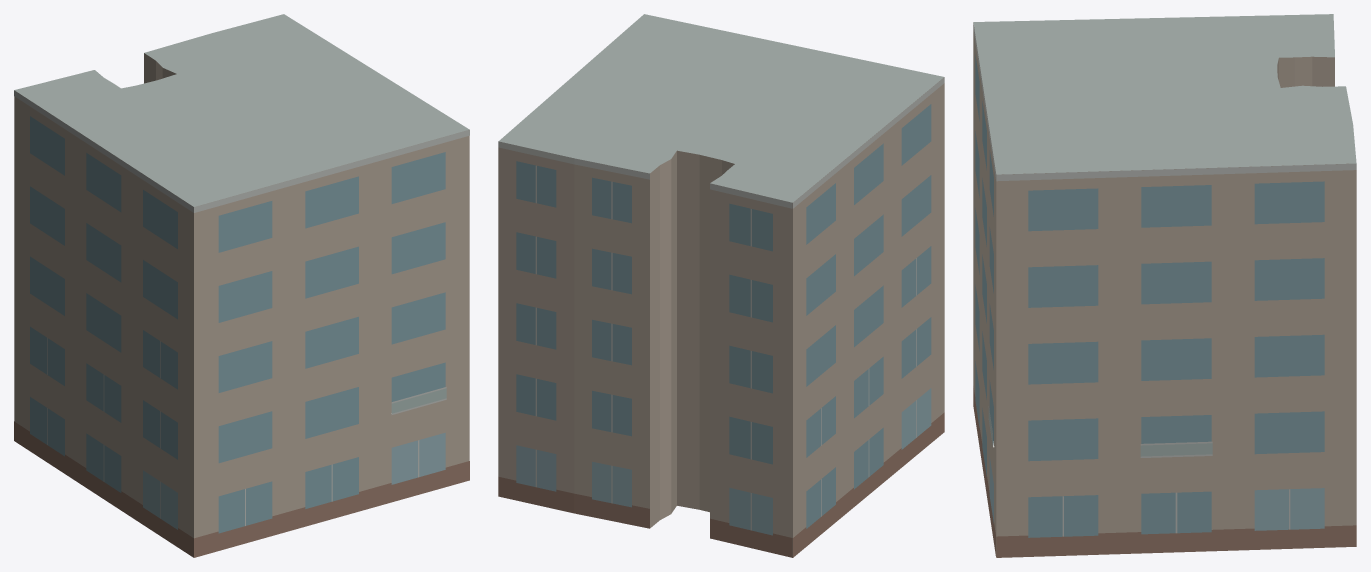
The model's file is survey-upis-32881670.glb.
3 views of the same model, side by side, from view 1: azimuth 30°, elevation 25°; view 2: azimuth 150°, elevation 25°; view 3: azimuth 270°, elevation 25° (orthographic). The views are drawn at different scales.
Visible parts, largest first — view 1: survey-upis-32881670.tmp; view 2: survey-upis-32881670.tmp; view 3: survey-upis-32881670.tmp.
Part boxes in pixels (<box>): survey-upis-32881670.tmp: <box>14,14,469,557</box>; survey-upis-32881670.tmp: <box>498,14,944,557</box>; survey-upis-32881670.tmp: <box>973,14,1356,557</box>.
Size of the model in its own units: 12.77 by 14.2 by 12.88.
